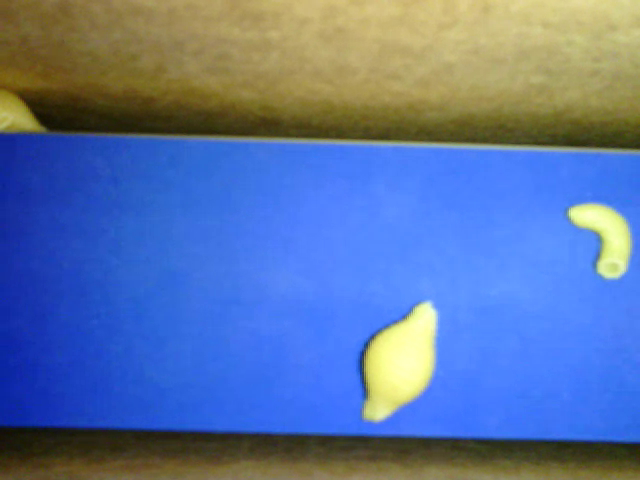elbow: (568, 199, 632, 283)
shell: (358, 295, 440, 427), (1, 90, 49, 133)
